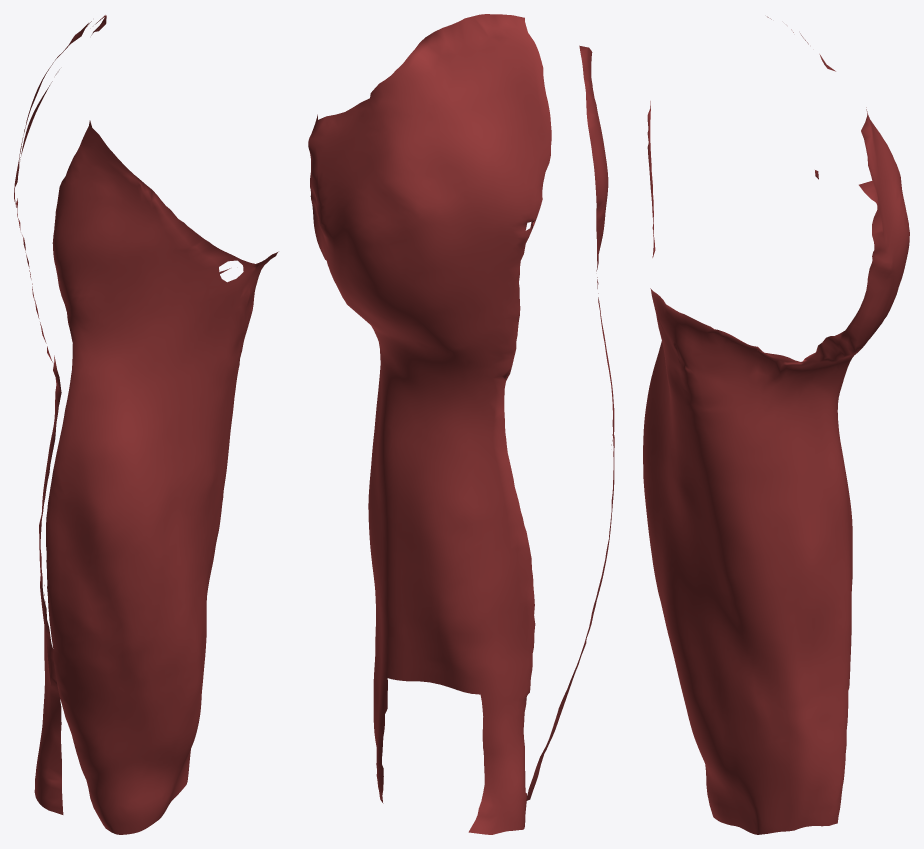
File: fascia-lata-r.glb
The picture shows the model from 3 angles, left to right: view 1: azimuth 30°, elevation 25°; view 2: azimuth 150°, elevation 25°; view 3: azimuth 270°, elevation 25°; orthographic projection. The views are drawn at different scales.
Visible parts, largest first — view 1: Fascia lata.r; view 2: Fascia lata.r; view 3: Fascia lata.r.
Part boxes in pixels (x1,y1,x2,y2): Fascia lata.r: (14,15,278,834); Fascia lata.r: (308,14,614,834); Fascia lata.r: (643,16,909,834).
Bounding box in the file's own units: 0.1593 × 0.5699 × 0.1751.
